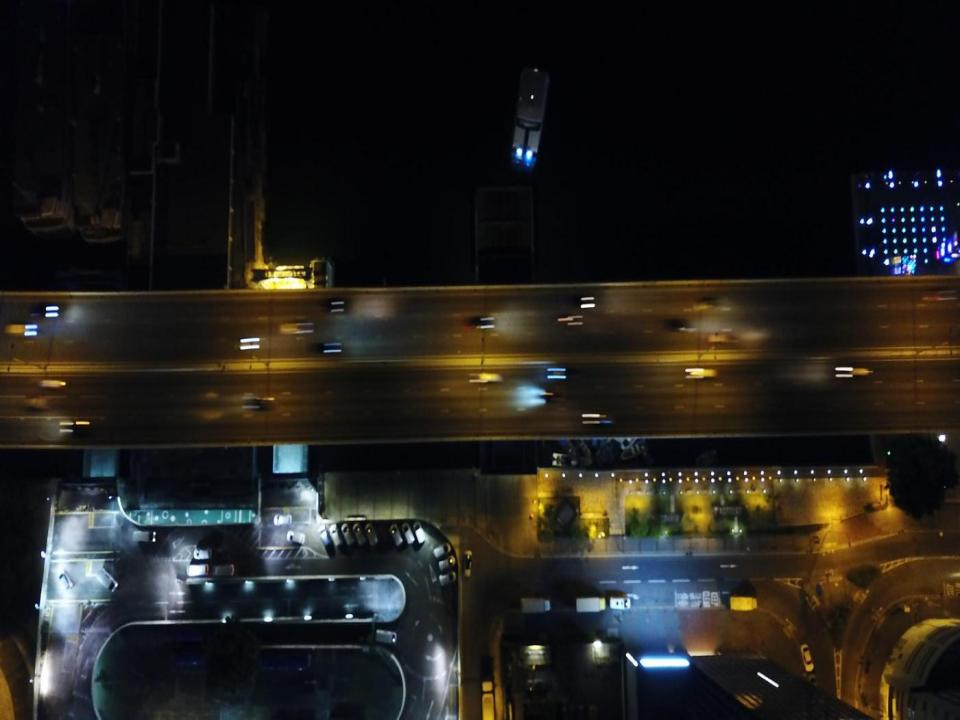bus: (258, 650, 312, 672)
car: (60, 418, 97, 435), (1, 321, 36, 338), (242, 396, 275, 412), (217, 337, 249, 352), (470, 370, 502, 385), (30, 302, 58, 319), (840, 365, 874, 379), (588, 412, 615, 428), (706, 332, 736, 346), (800, 644, 814, 672), (464, 317, 494, 330), (693, 367, 719, 382), (807, 674, 820, 703), (280, 322, 306, 336), (308, 342, 338, 354), (539, 388, 566, 401), (663, 319, 689, 332), (412, 520, 426, 544), (322, 298, 344, 313), (318, 525, 331, 550), (571, 296, 594, 310), (40, 378, 64, 391), (365, 522, 378, 546), (353, 524, 366, 548), (341, 522, 354, 546), (329, 522, 342, 546), (553, 367, 581, 378), (696, 295, 720, 307), (390, 524, 402, 548), (464, 549, 473, 580), (402, 523, 415, 544), (610, 598, 632, 610), (439, 572, 456, 587), (439, 556, 456, 571), (27, 396, 48, 408), (287, 531, 305, 545), (434, 544, 451, 558), (274, 514, 293, 526)
truck: (482, 680, 496, 719), (521, 597, 551, 615), (576, 598, 605, 614), (730, 597, 758, 611)
van: (375, 630, 397, 646)
